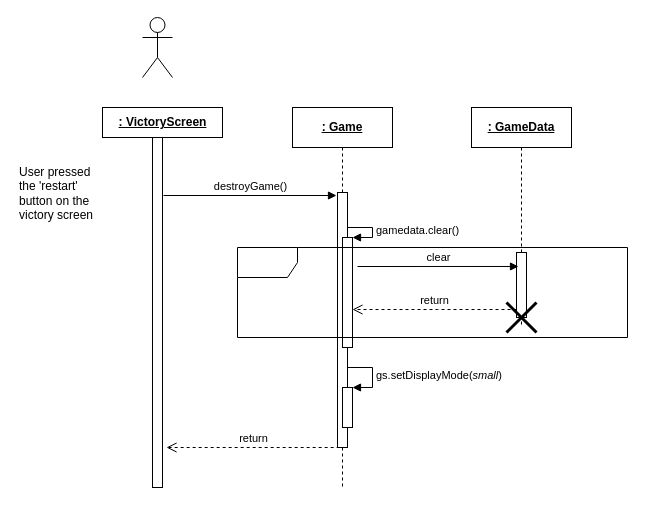
Some shapes in this 645 by 505 pixel diagram are drawn without their labels. The centre of each missing label's shape, as x and y in pixels:
Actor: (x=157, y=47)
Loop: (x=432, y=292)
